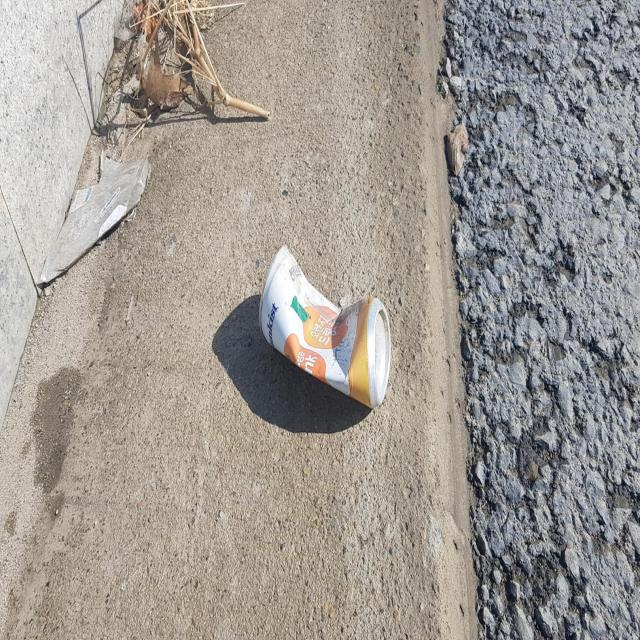can: (260, 244, 391, 407)
